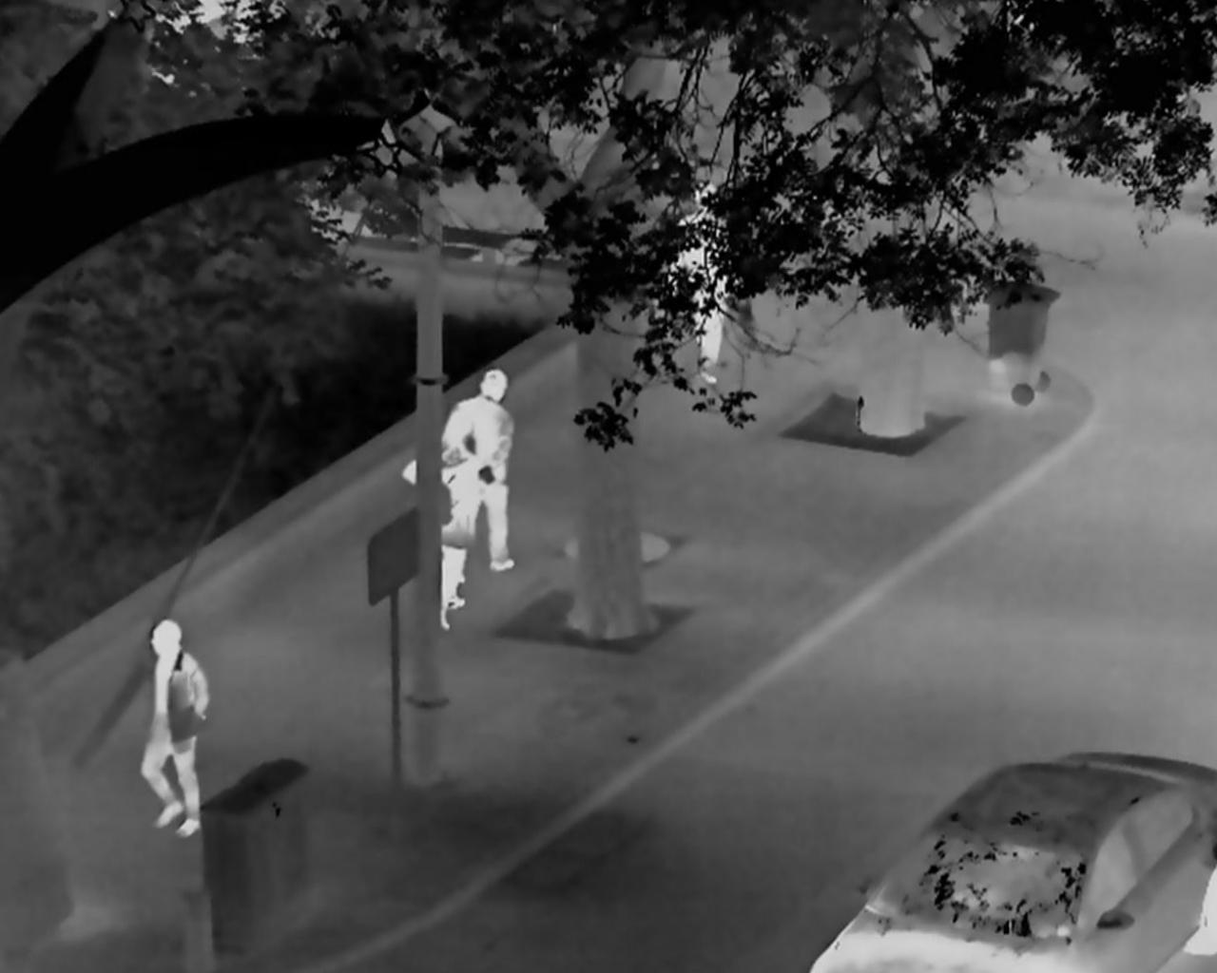person: (403, 414, 476, 630), (139, 619, 211, 838), (443, 368, 514, 572), (677, 180, 732, 380)
